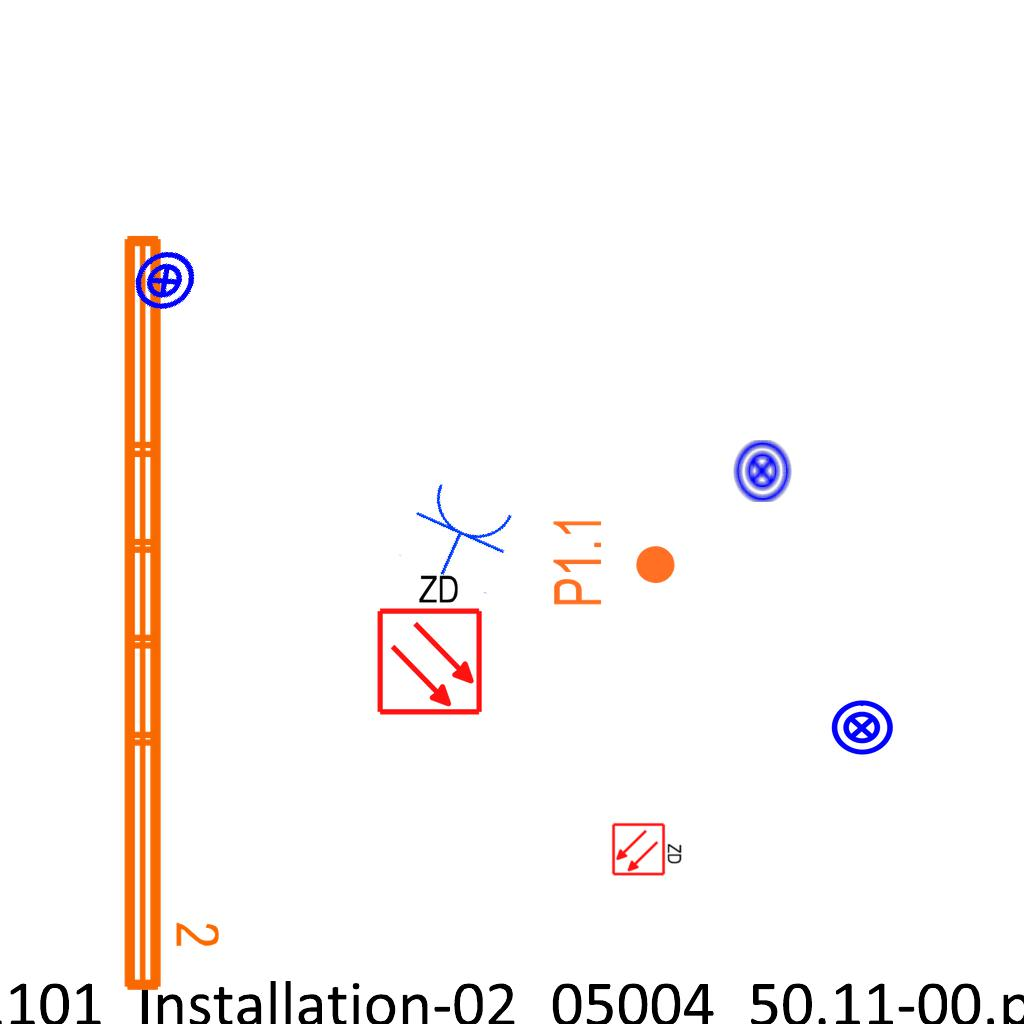Ambulanz_Pendelleuchte_LED: (112, 225, 224, 999)
Downlight_LED_Einbauleuchten_Flur: (550, 515, 678, 608)
Schukosteckdose_einfach: (396, 475, 524, 596)
Taster_beleuchtet: (118, 234, 212, 328), (729, 438, 795, 504), (829, 695, 895, 761)
ZD_Melder_in_Zwischendecke_mit_Revisionsoeffnung_mind_40_x_40_cm: (371, 568, 485, 717), (611, 820, 685, 877)
